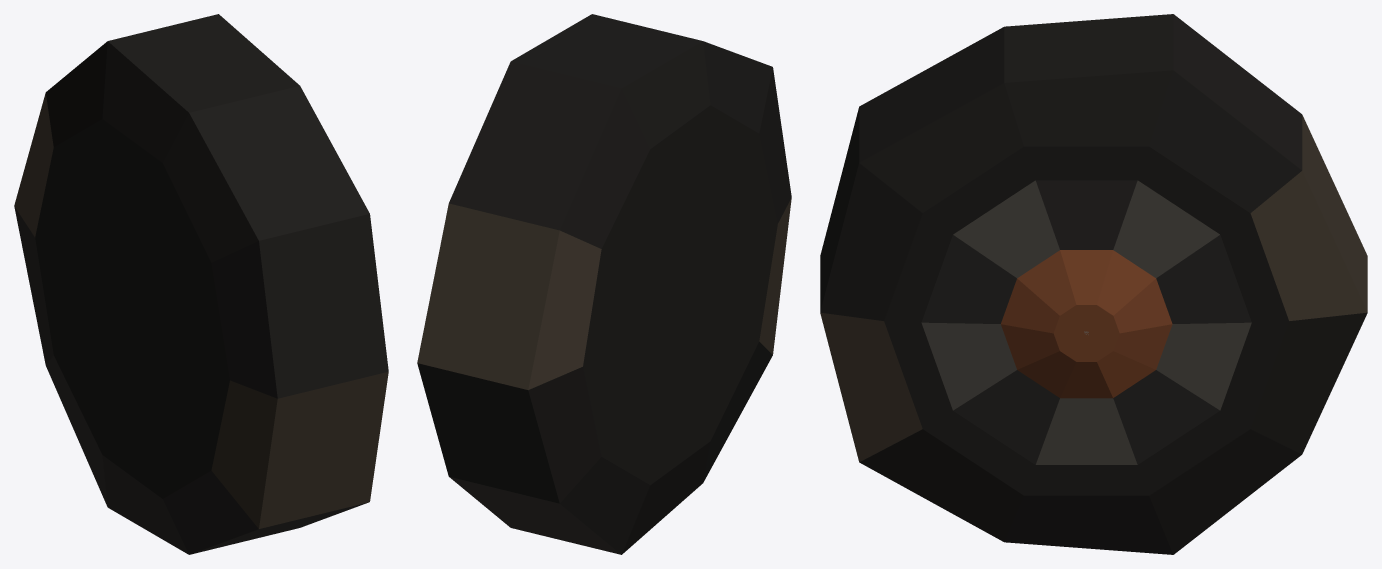
Rendered from carreta_roda.glb.
3 renders of one model, left to right at view 1: azimuth 30°, elevation 25°; view 2: azimuth 150°, elevation 25°; view 3: azimuth 270°, elevation 25°, orthographic. The views are drawn at different scales.
Parts seen in each view (by area): view 1: carreta_roda.001; view 2: carreta_roda.001; view 3: carreta_roda.001.
Boxes of the visible parts, bbox=[...] form: carreta_roda.001: bbox=[14, 14, 388, 554]; carreta_roda.001: bbox=[417, 14, 791, 554]; carreta_roda.001: bbox=[820, 14, 1367, 554].
Size of the model in its own units: 0.35 by 0.9231 by 0.9453.
